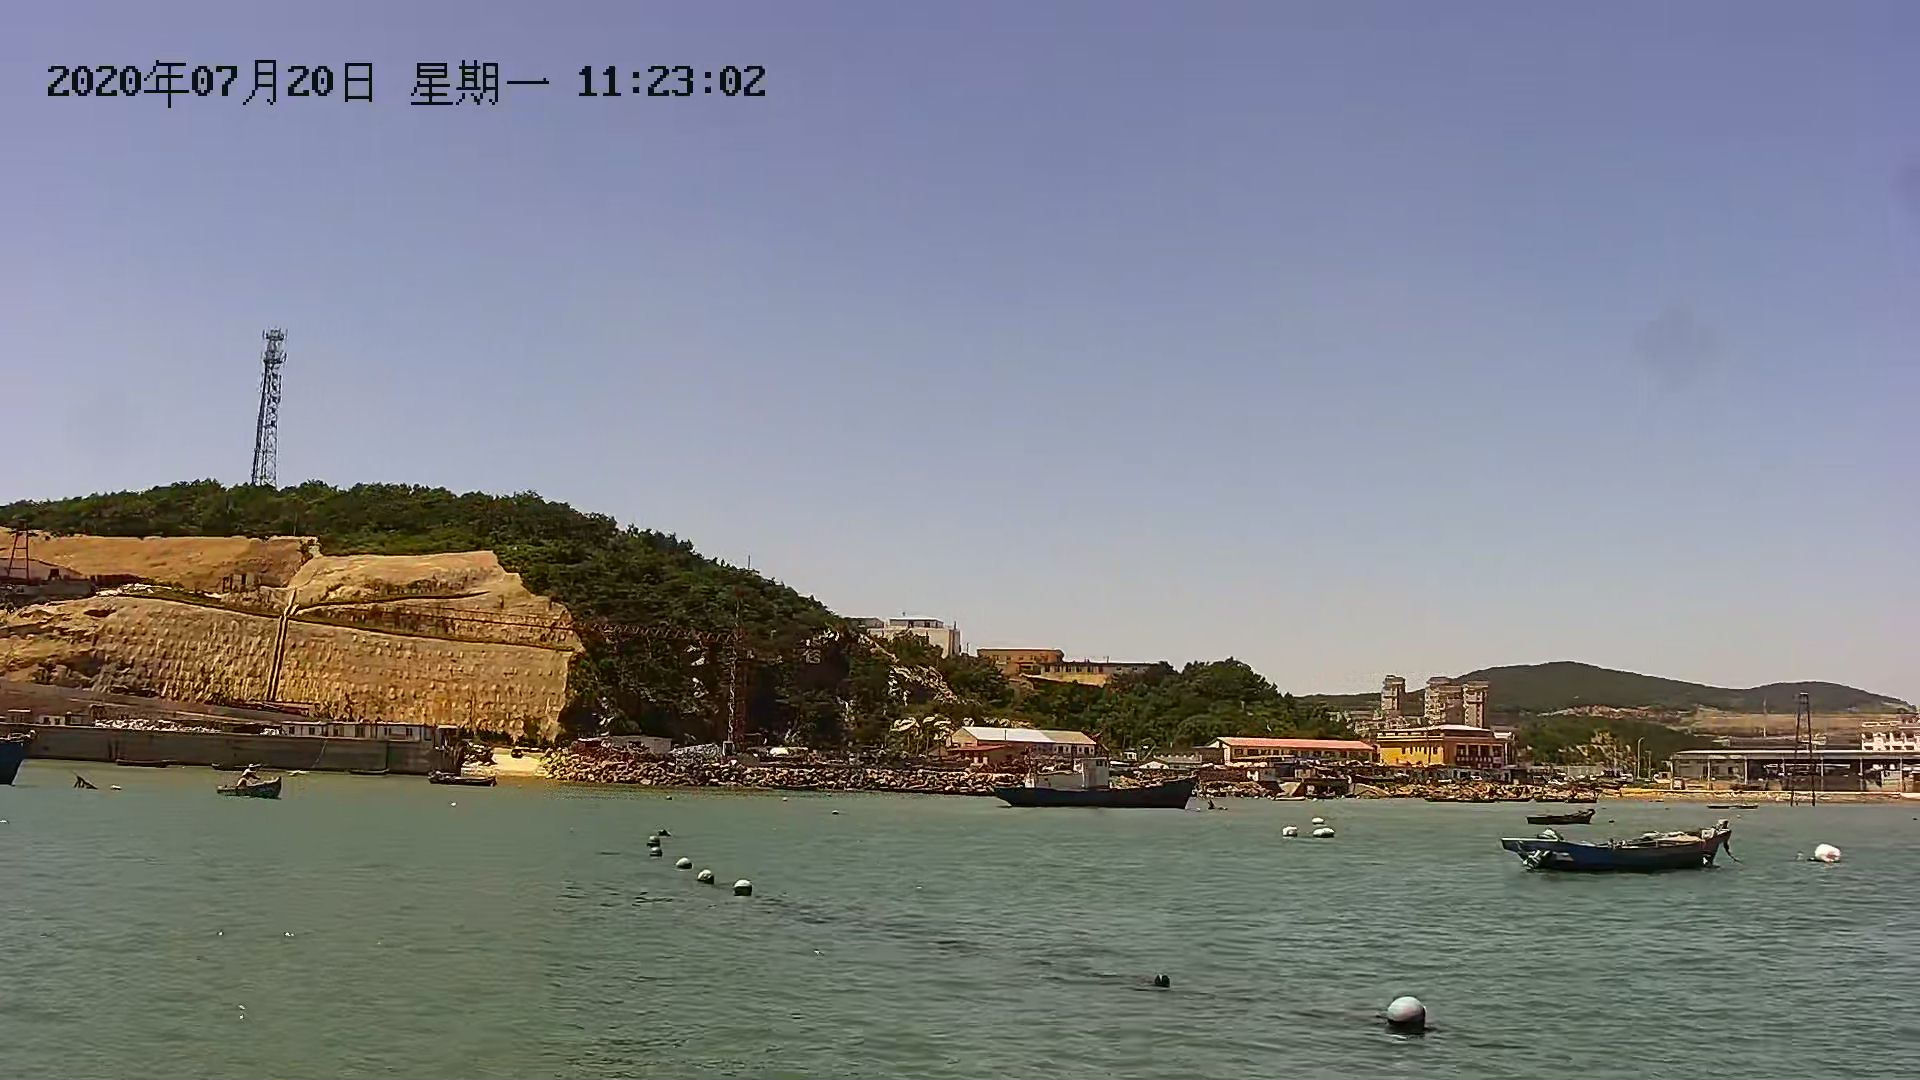ball: (1381, 993, 1431, 1030), (1149, 967, 1178, 996), (1304, 818, 1333, 844), (1818, 843, 1846, 864), (671, 851, 699, 872), (733, 878, 760, 898), (690, 866, 711, 884), (1280, 822, 1298, 839), (644, 833, 665, 845), (649, 849, 666, 862)
boat: (1487, 827, 1750, 877), (981, 765, 1207, 814), (218, 767, 286, 802)
